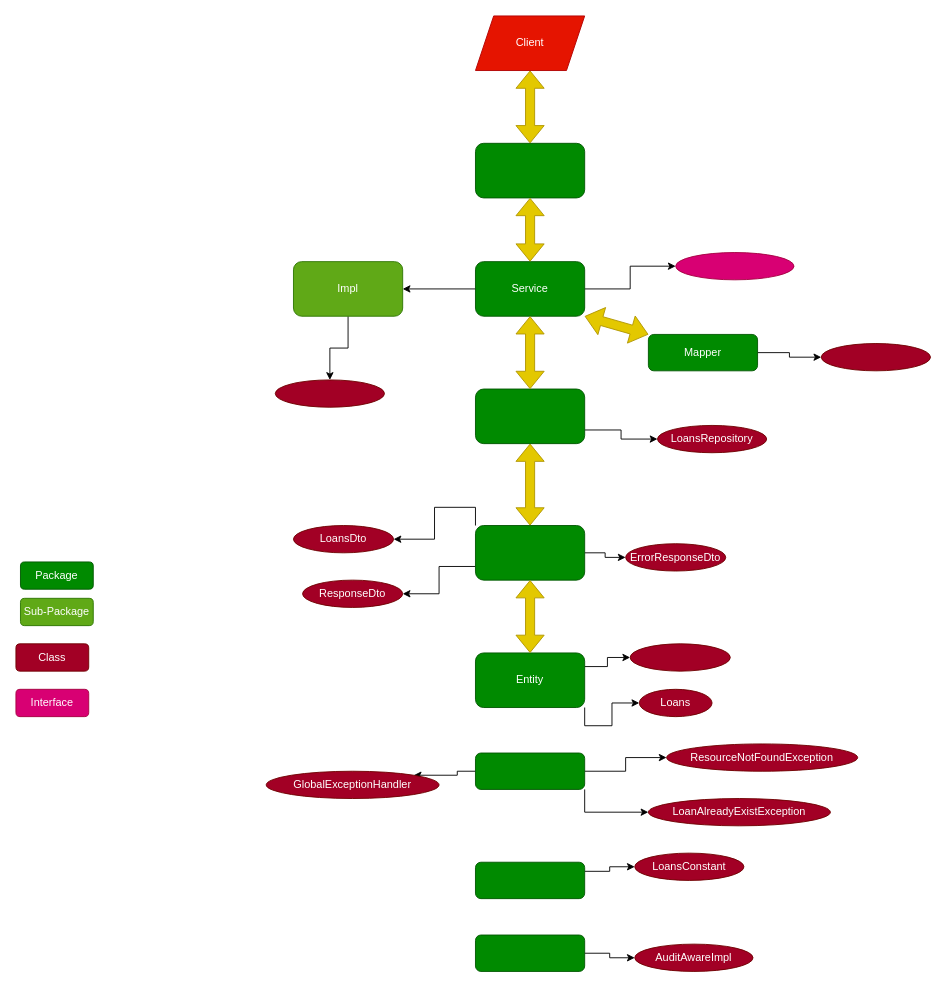
The diagram is 946 pixels wide and 987 high, and some of its shapes have lost their labels. The shapes that lost their labels are listed below. From the top down, each one's box as (x1, y1, x2, y2) in pixels, then its label:
(475, 142, 585, 198): Controller
(675, 252, 794, 280): ILoanServcie
(820, 343, 930, 371): LoansMapper
(274, 379, 384, 407): LoanServiceImpl
(475, 388, 585, 444): Repository
(475, 525, 585, 580): Dto
(629, 643, 730, 671): BasicEntity
(475, 752, 585, 789): Exception
(475, 861, 585, 899): Constant
(475, 934, 585, 971): Audit
